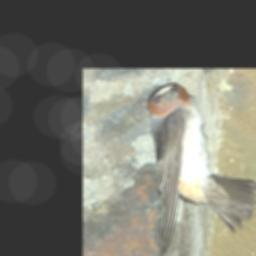Swallow: (145, 82, 256, 256)
